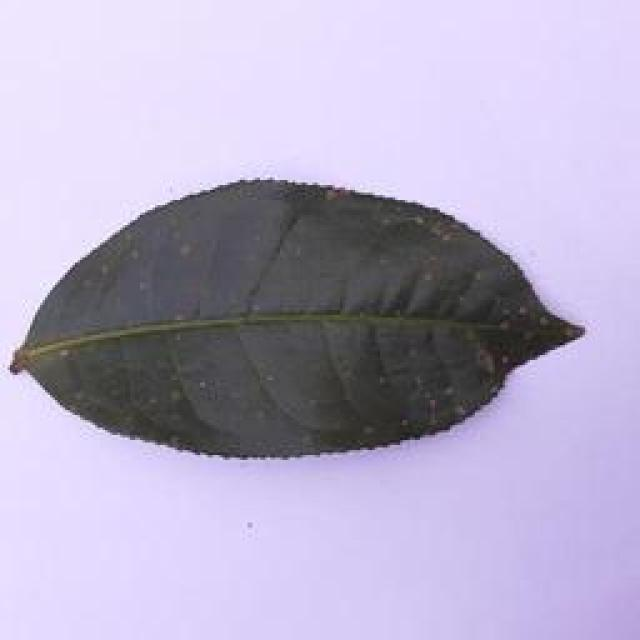Algal Leaf Spot: (4, 149, 601, 482)
